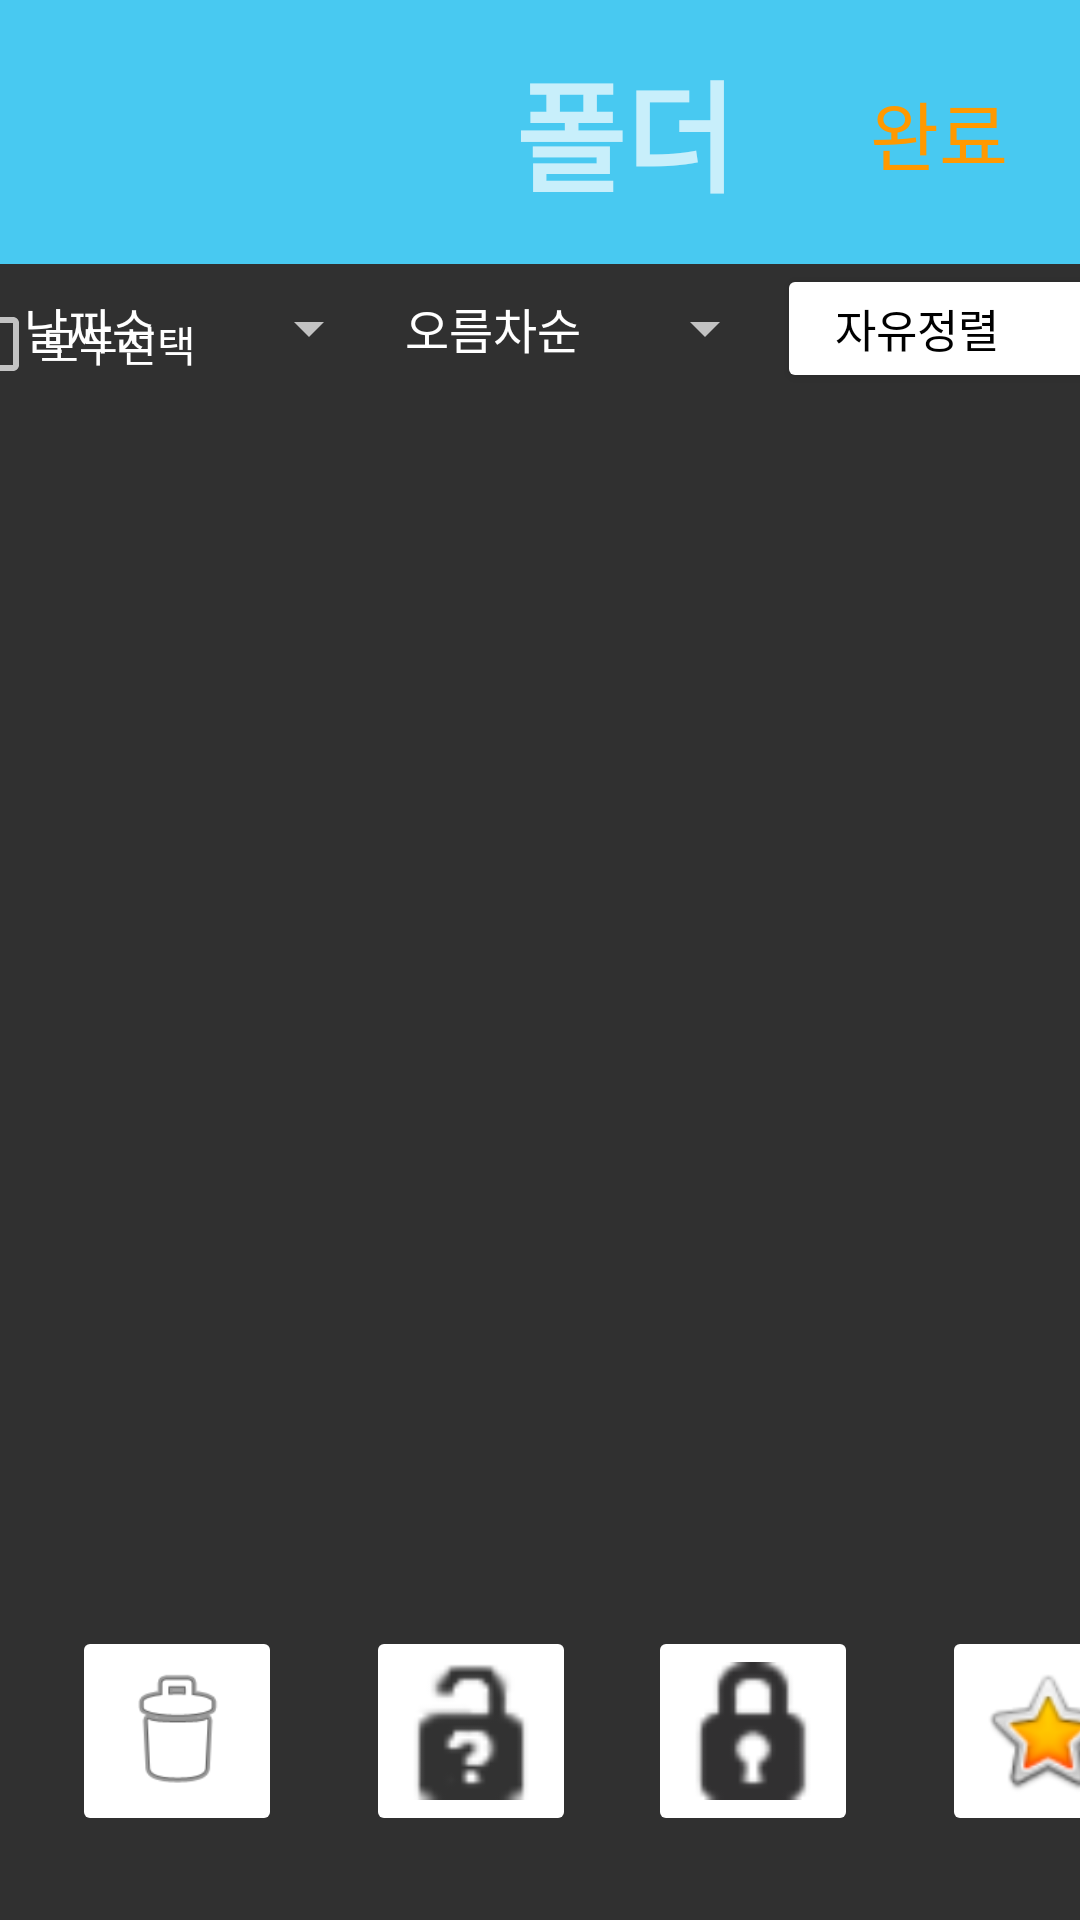

Locate icon controls on the screen. Image size 1080×1920, boxes as [left=x1, top=y1, right=x2, bottom=y2].
delete: [left=84, top=1644, right=270, bottom=1818]
partial secure: [left=378, top=1644, right=564, bottom=1818]
secure: [left=660, top=1644, right=846, bottom=1818]
